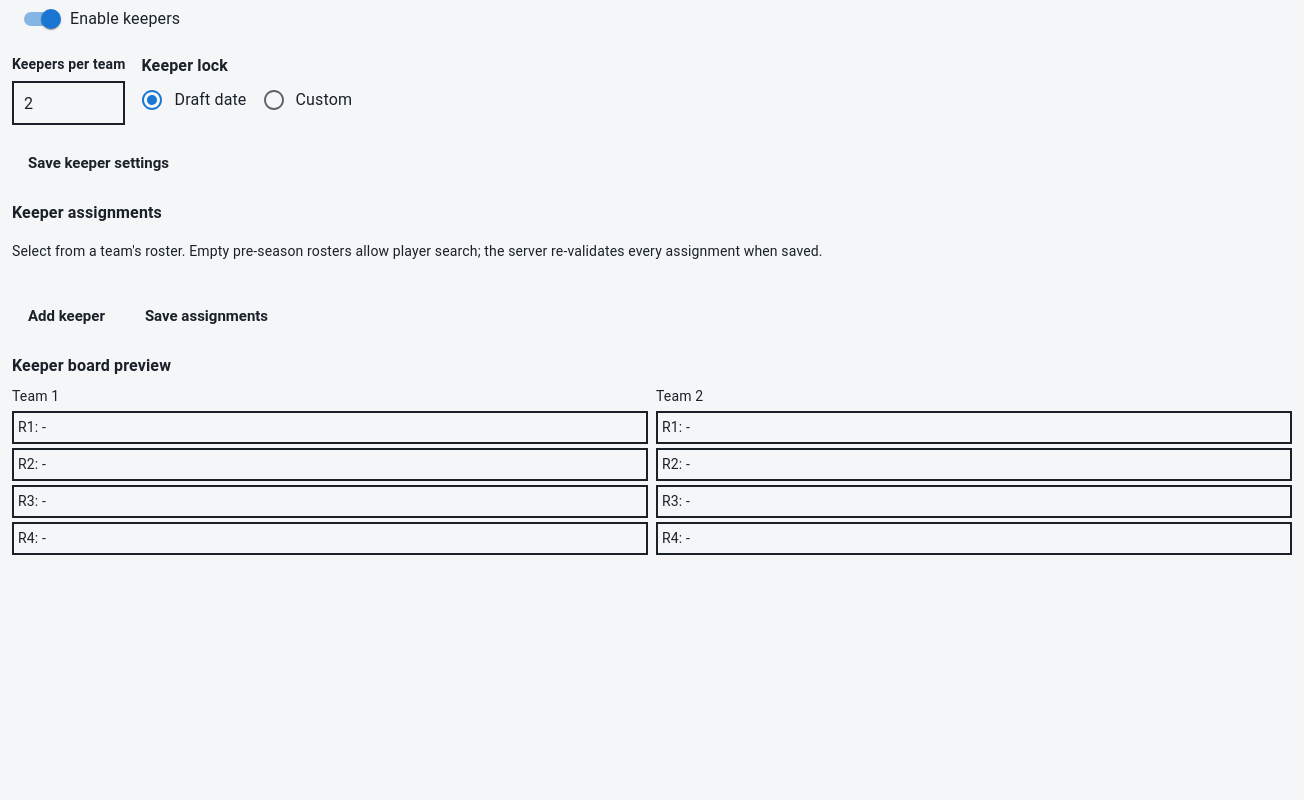
Test: keeper player search › shows a distinct error state when the player search request fails
Click the button "Add keeper" at [66, 316], box left=12, top=294, right=121, bottom=338
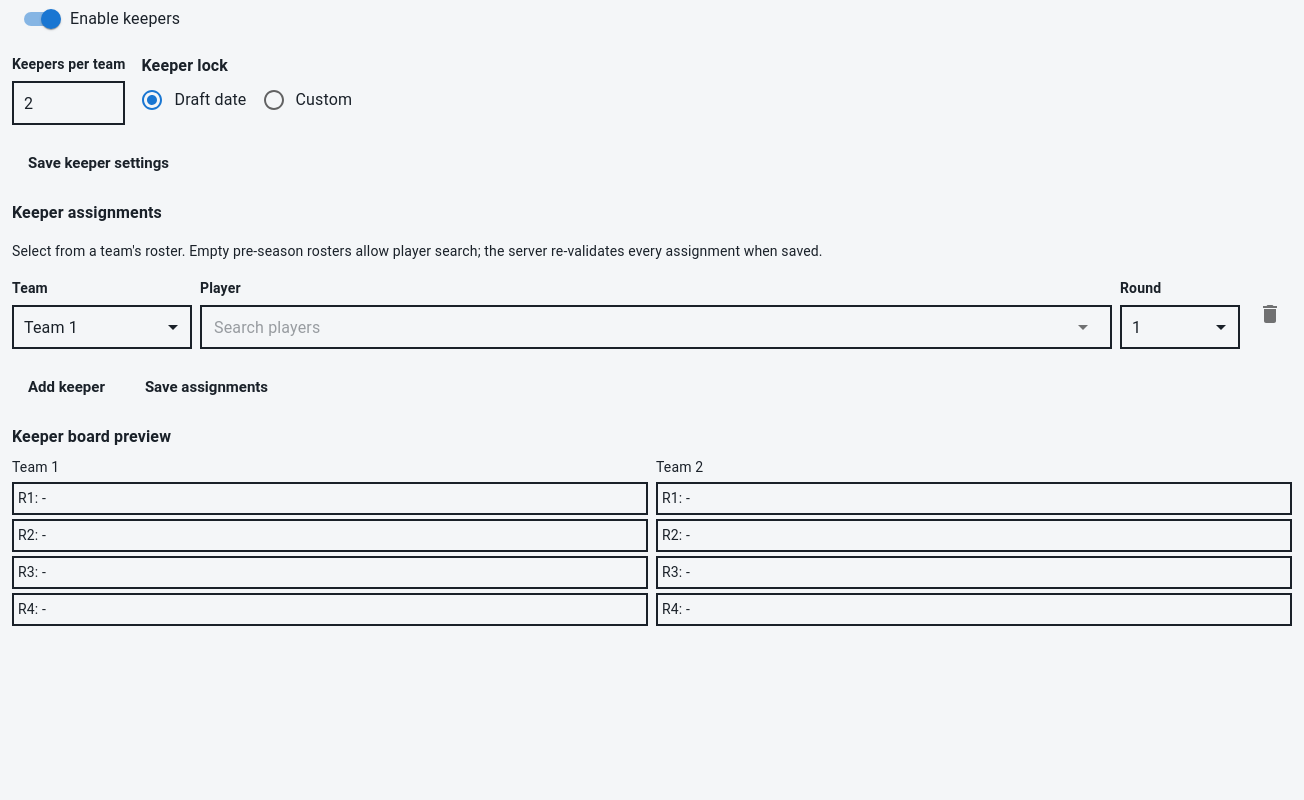
Type "aaron" into the dropdown labelled "Player" at [641, 327], box left=209, top=305, right=1073, bottom=349
Wait 250 ms
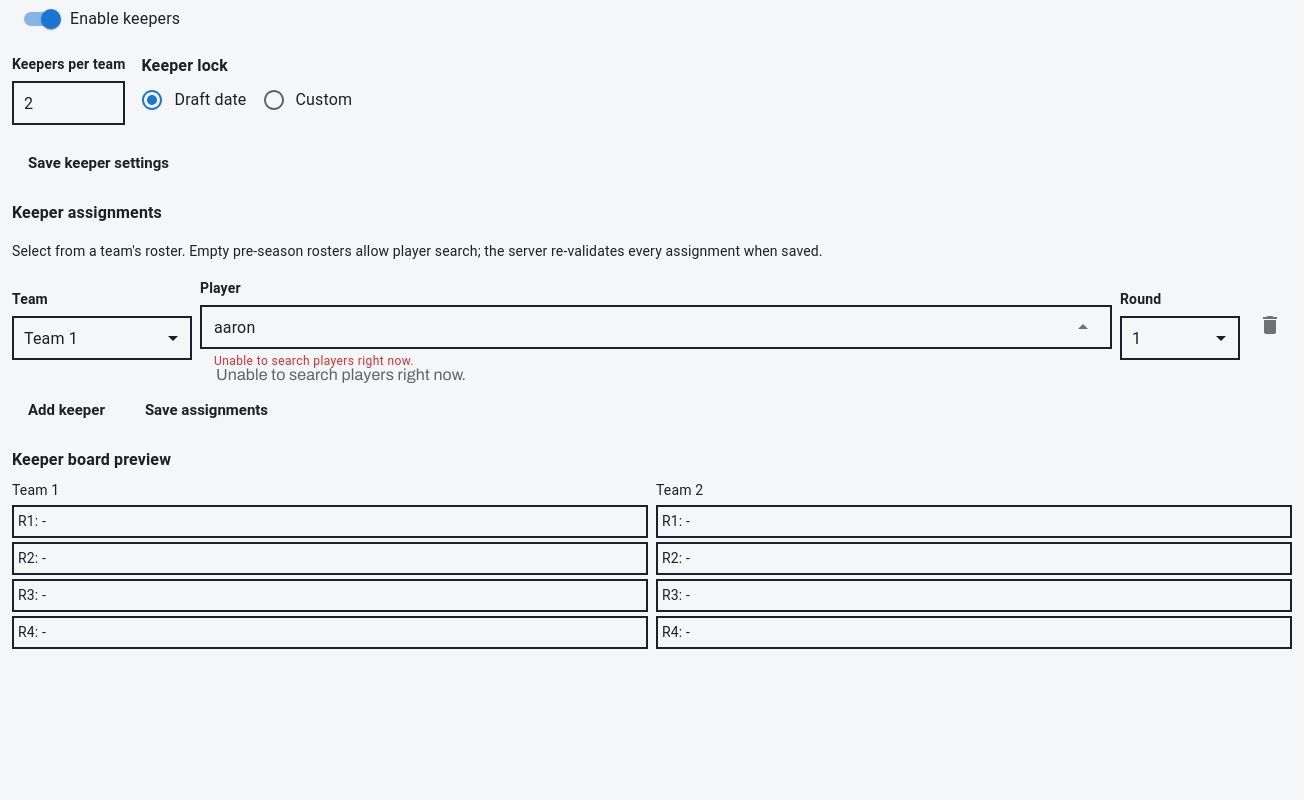
Result: the text "Unable to search players right now." below "Round" is shown at left=214, top=354, right=414, bottom=368
